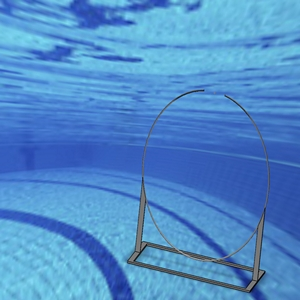circle: (125, 87, 271, 292)
